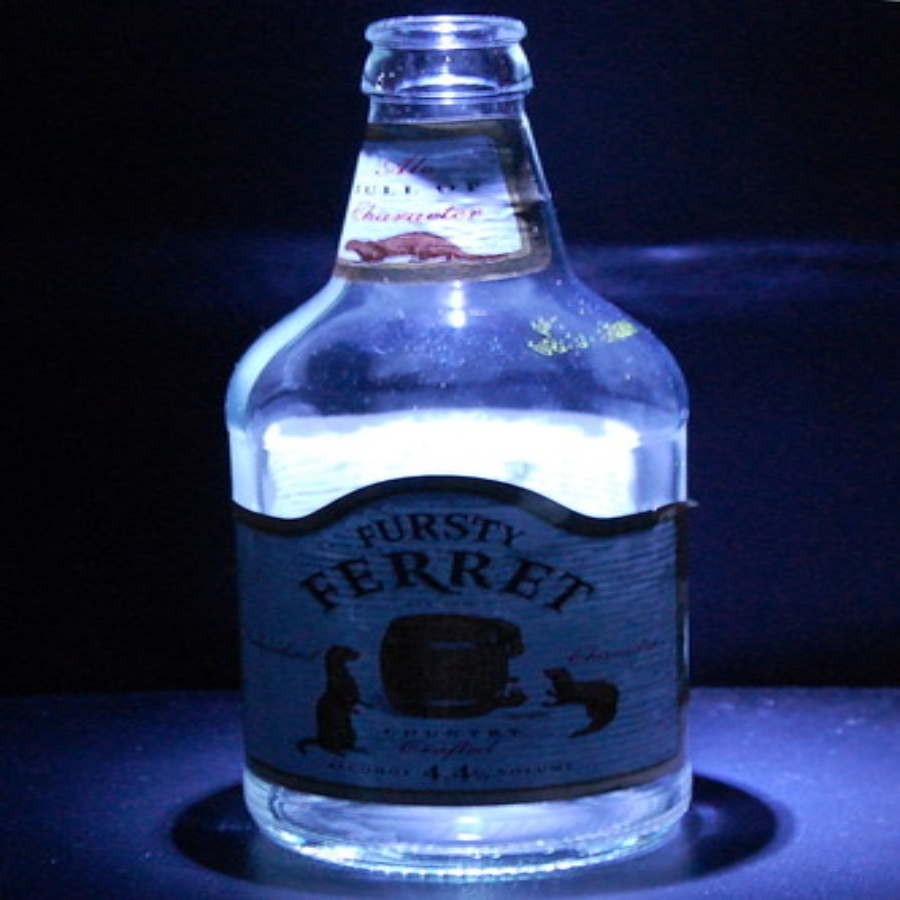beer: (230, 15, 706, 878)
